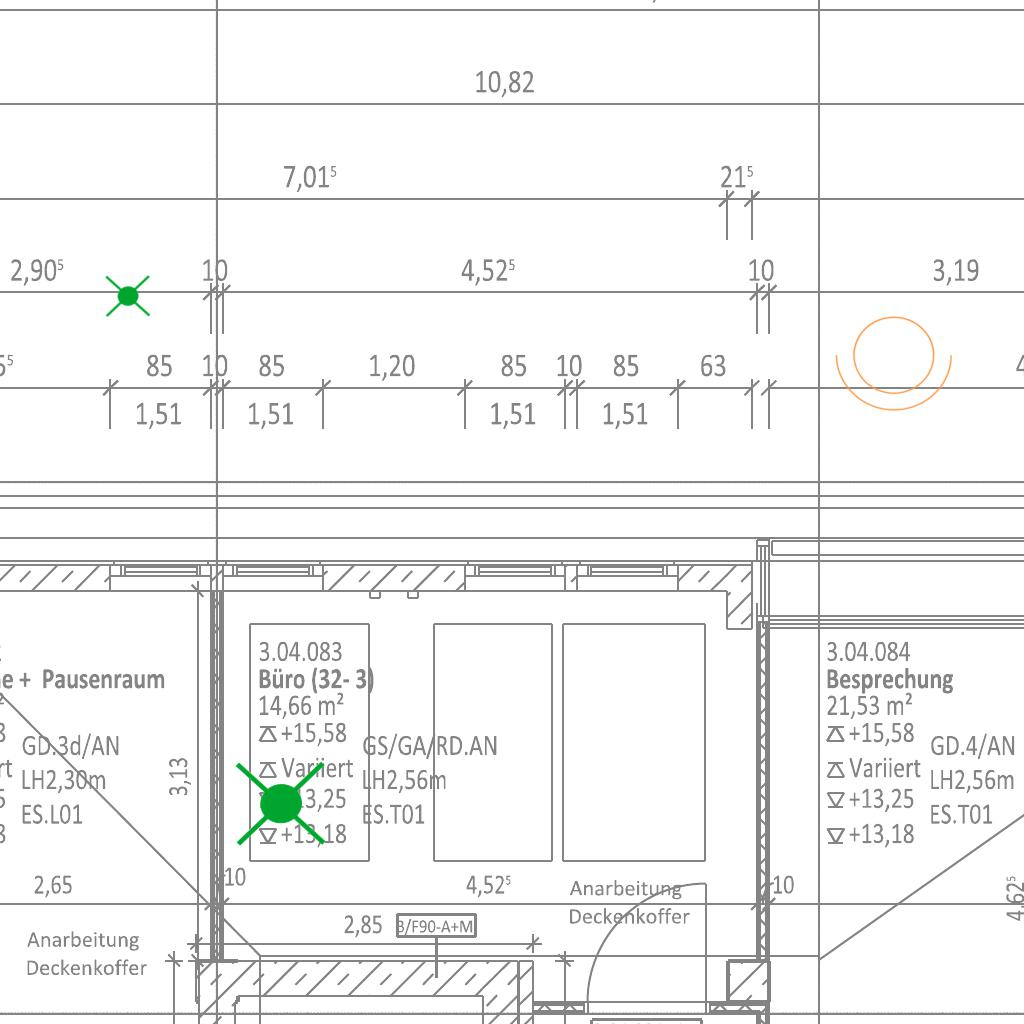Notlichtbaustein_in_Allgemeinbeleuchtug_engebaut_Einbau_(1UG_und_2UG_Aufbauvaria: (231, 751, 331, 854), (103, 270, 153, 321)
Scheinwerfer_fuer_Alarmbeleuchtung: (831, 304, 963, 416)
